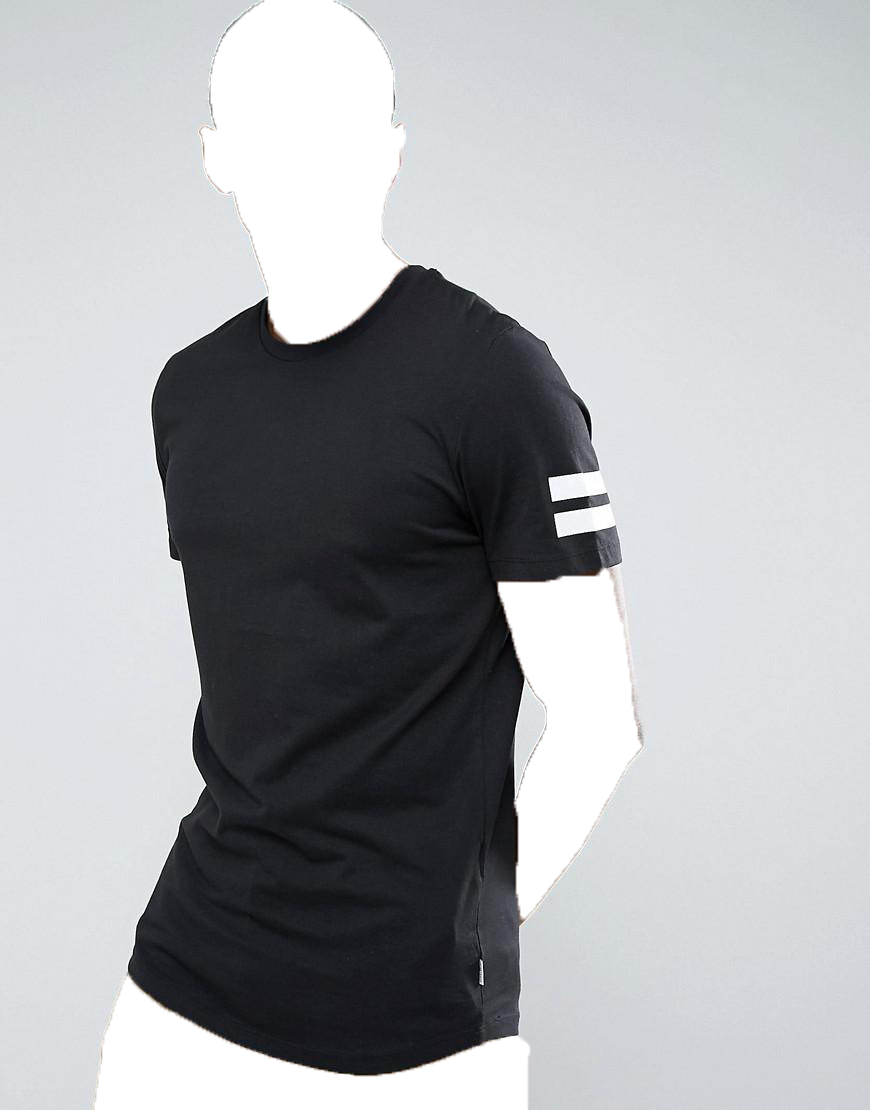teeshirt: (139, 252, 635, 1076)
